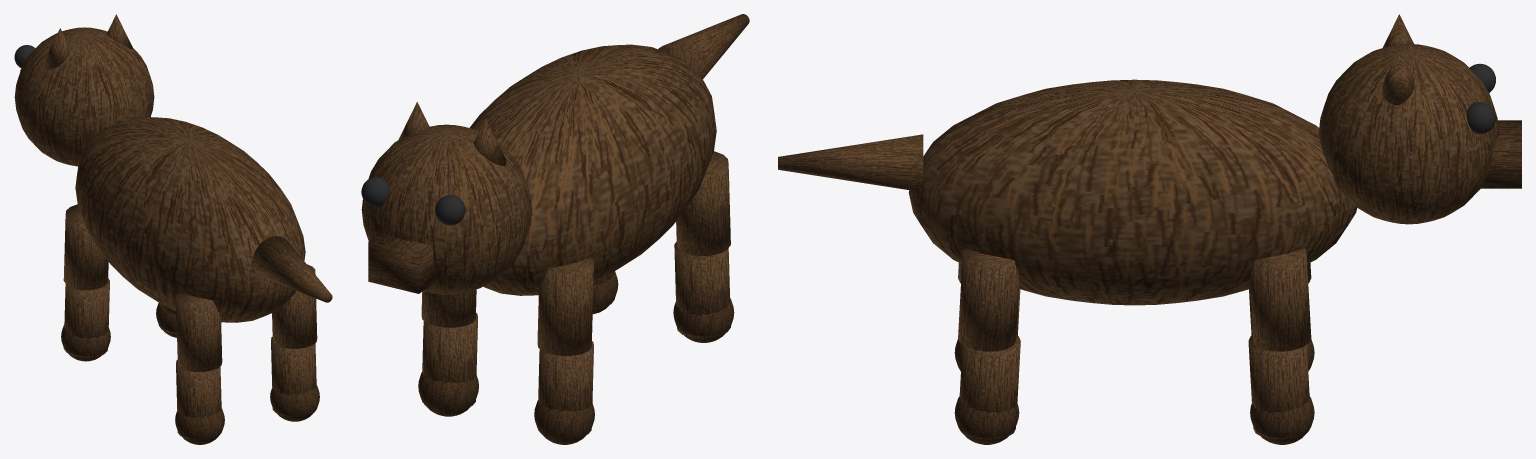
File: quadruped-beast-proof.glb
3 renders of one model, left to right at view 1: azimuth 30°, elevation 25°; view 2: azimuth 150°, elevation 25°; view 3: azimuth 270°, elevation 25°, orthographic. The views are drawn at different scales.
Visible parts, largest first — view 1: Body, Head, LegUpper.001, LegUpper, Tail, LegLower, LegUpper.003, LegLower.003, LegLower.001, Paw.003, Paw.001, Paw (+3 smaller); view 2: Body, Head, LegUpper, LegUpper.001, LegLower.001, Snout, LegLower.002, LegLower, Tail, Paw, Paw.002, LegUpper.002 (+6 smaller); view 3: Body, Head, LegUpper.002, LegUpper.003, Tail, LegLower.002, LegLower.003, Snout, Paw.002, Paw.003, Ear.001, Eye.001.
Boxes of the visible parts, bbox=[...] form: Body: bbox=[75, 117, 305, 322]; Head: bbox=[14, 27, 154, 166]; LegUpper.001: bbox=[176, 291, 222, 371]; LegUpper: bbox=[63, 204, 108, 290]; Tail: bbox=[252, 236, 332, 302]; LegLower: bbox=[63, 278, 109, 358]; LegUpper.003: bbox=[272, 264, 317, 348]; LegLower.003: bbox=[271, 337, 316, 416]; LegLower.001: bbox=[176, 360, 221, 439]; Paw.003: bbox=[270, 385, 319, 421]; Paw.001: bbox=[175, 408, 224, 444]; Paw: bbox=[61, 325, 110, 361]; Body: bbox=[469, 44, 716, 295]; Head: bbox=[361, 124, 531, 294]; LegUpper: bbox=[537, 258, 593, 355]; LegUpper.001: bbox=[676, 151, 730, 256]; LegLower.001: bbox=[674, 242, 730, 338]; Snout: bbox=[368, 232, 438, 293]; LegLower.002: bbox=[422, 313, 477, 410]; LegLower: bbox=[538, 341, 593, 438]; Tail: bbox=[658, 14, 749, 79]; Paw: bbox=[534, 400, 594, 444]; Paw.002: bbox=[418, 372, 478, 416]; LegUpper.002: bbox=[421, 289, 476, 327]; Body: bbox=[908, 79, 1356, 305]; Head: bbox=[1318, 44, 1499, 224]; LegUpper.002: bbox=[1250, 248, 1311, 351]; LegUpper.003: bbox=[958, 248, 1019, 351]; Tail: bbox=[778, 134, 923, 190]; LegLower.002: bbox=[1248, 335, 1309, 439]; LegLower.003: bbox=[959, 335, 1020, 439]; Snout: bbox=[1479, 120, 1521, 188]; Paw.002: bbox=[1250, 396, 1314, 444]; Paw.003: bbox=[954, 396, 1019, 444]; Ear.001: bbox=[1382, 49, 1414, 105]; Eye.001: bbox=[1466, 102, 1495, 134].
Bounding box in the file's own units: 0.5385 × 1 × 1.77.
Materials: 3 (2 with a texture image).
